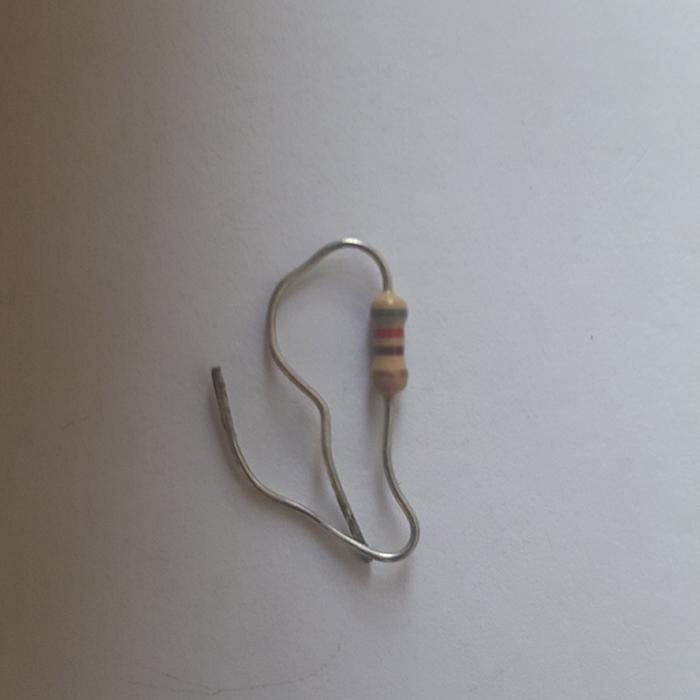resistor: (370, 291, 409, 398)
